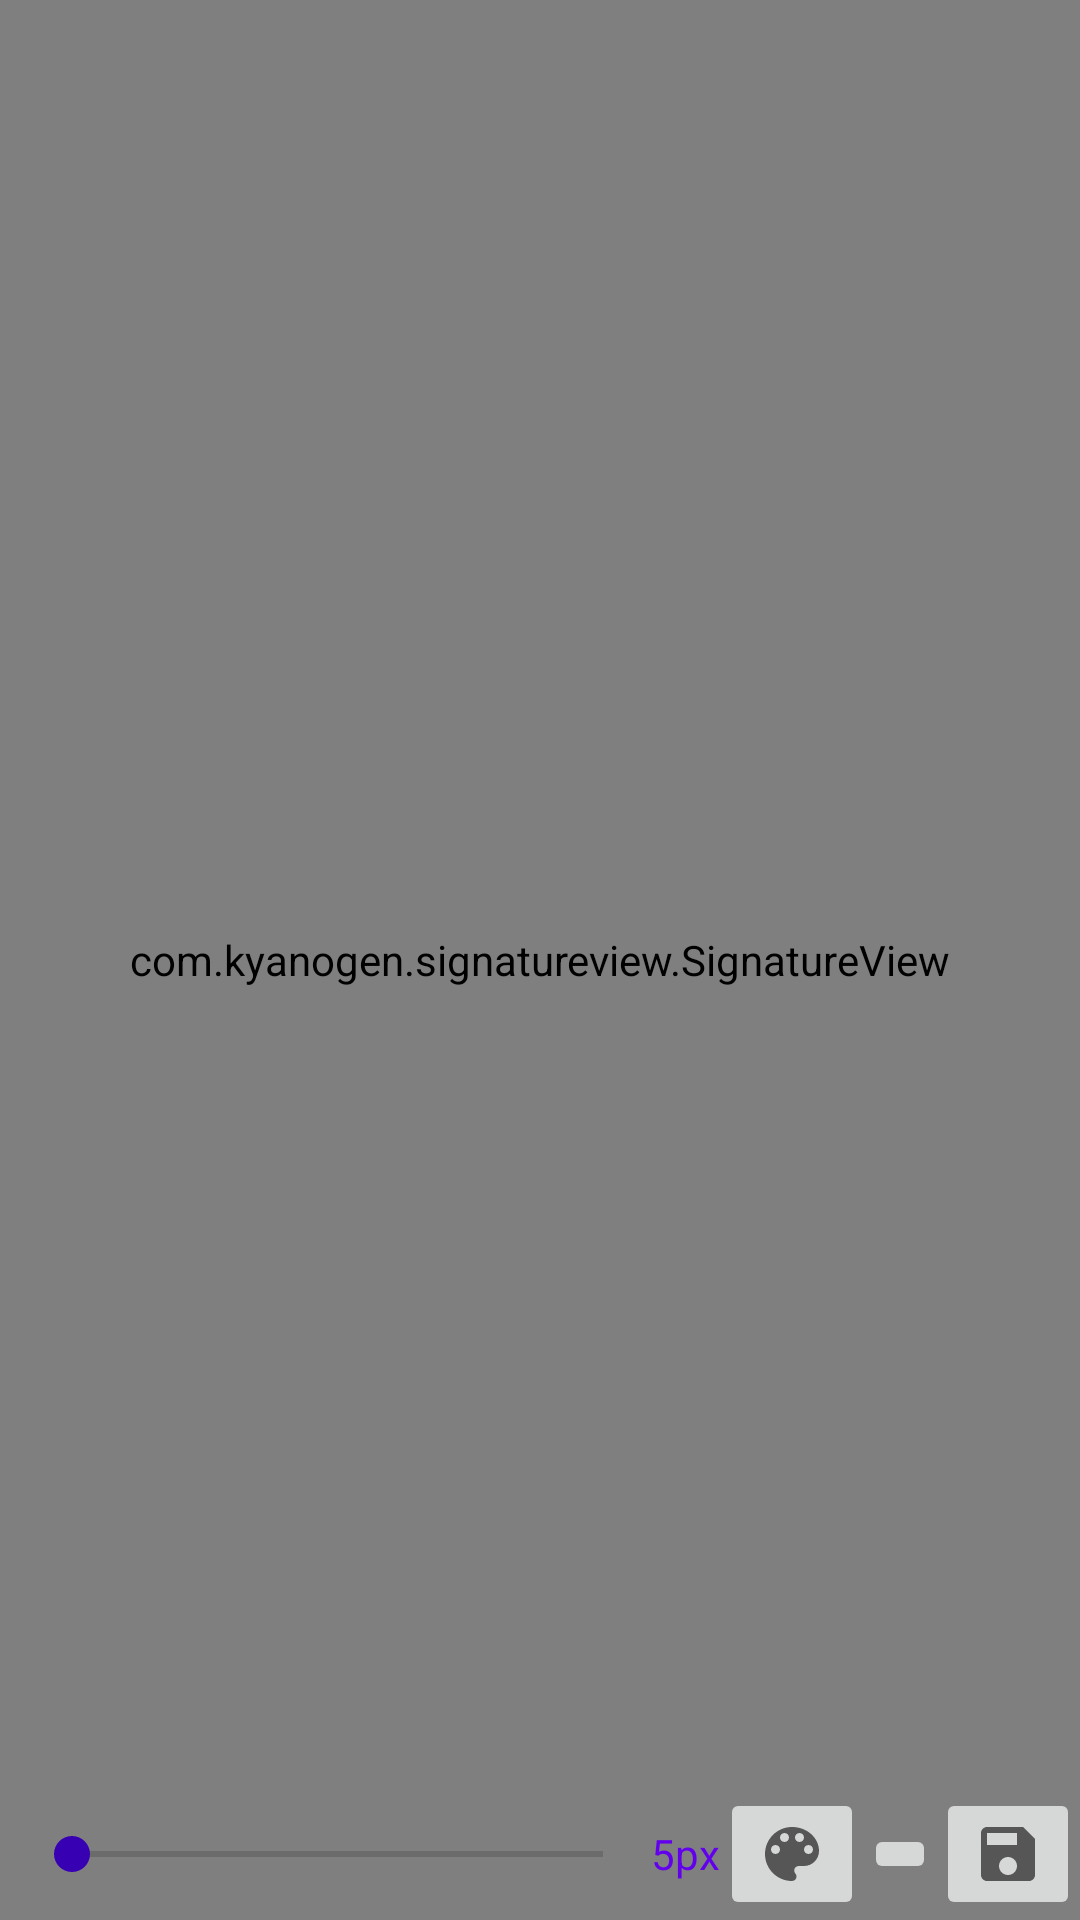

Where icons sit on this 1080*1920 app screen, as (x1, y1, x2, y2):
save: (948, 1806, 1068, 1902)
